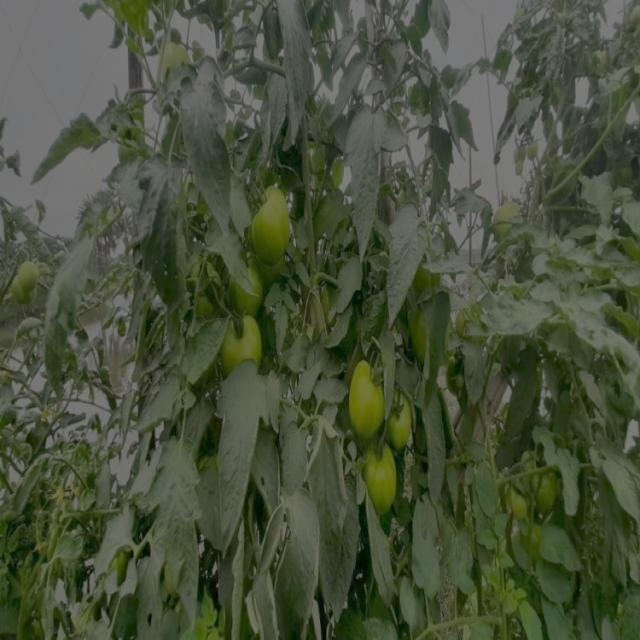tomato: (342, 357, 390, 449), (409, 290, 459, 368), (248, 186, 296, 267), (361, 447, 410, 514), (220, 312, 266, 381), (155, 25, 204, 79), (225, 261, 273, 314), (490, 192, 533, 245), (384, 394, 421, 451), (13, 254, 51, 309), (530, 466, 562, 511), (511, 479, 533, 519)
